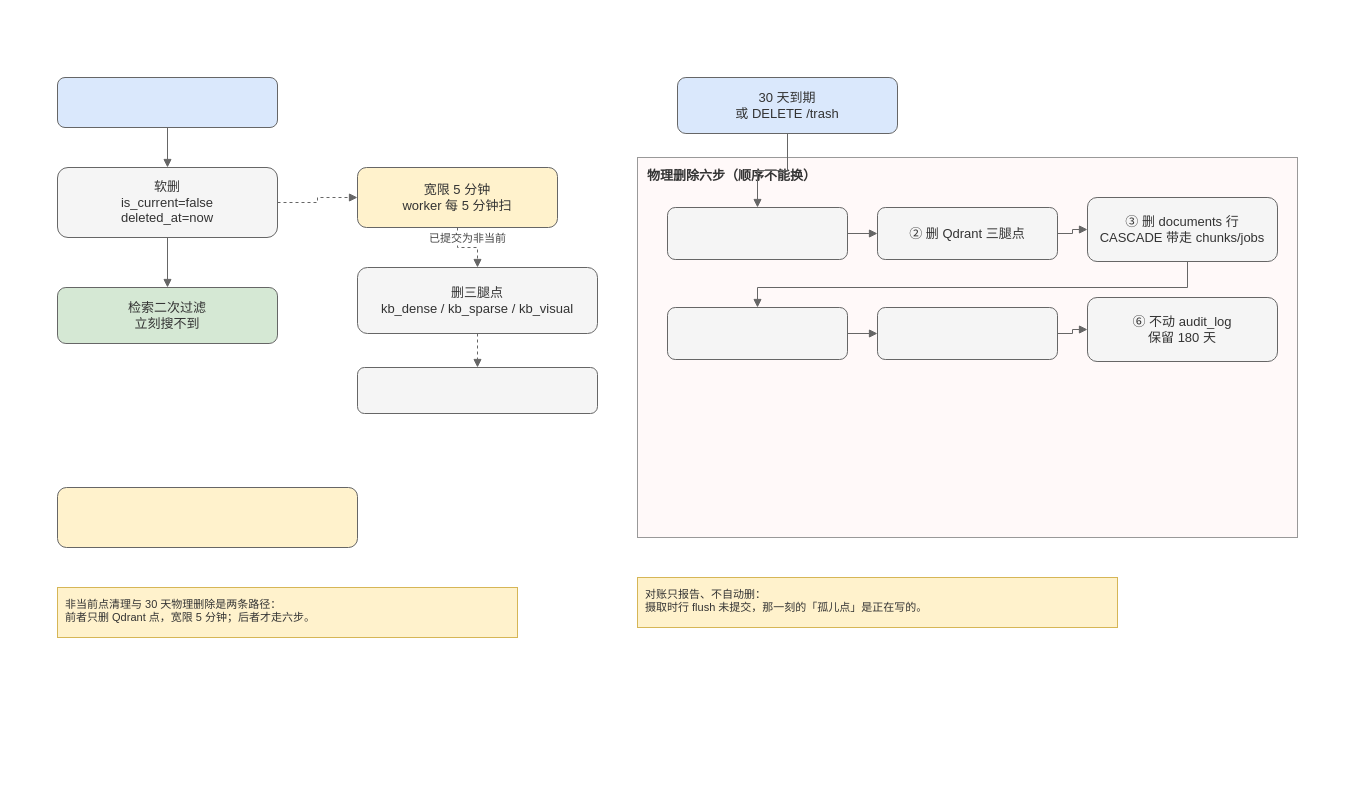
This 1354x794 diagram has some shape labels left out. The shapes that lost their labels are listed below. From the top down, each one's box as (x1, y1, x2, y2) in pixels, then its label:
(56, 76, 278, 128): DELETE /documents/{id}
(666, 206, 848, 260): ① df 减回去 bm25.tokenize
(666, 306, 848, 360): ④ blobs.ref_count − 1
(876, 306, 1058, 360): ⑤ 归零才删 blob 目录
(356, 366, 598, 414): 不碰 df / blob / PG 行
(56, 486, 358, 548): 容器清理：软删的库 / 工作区 只由 worker 30 天路径触发
